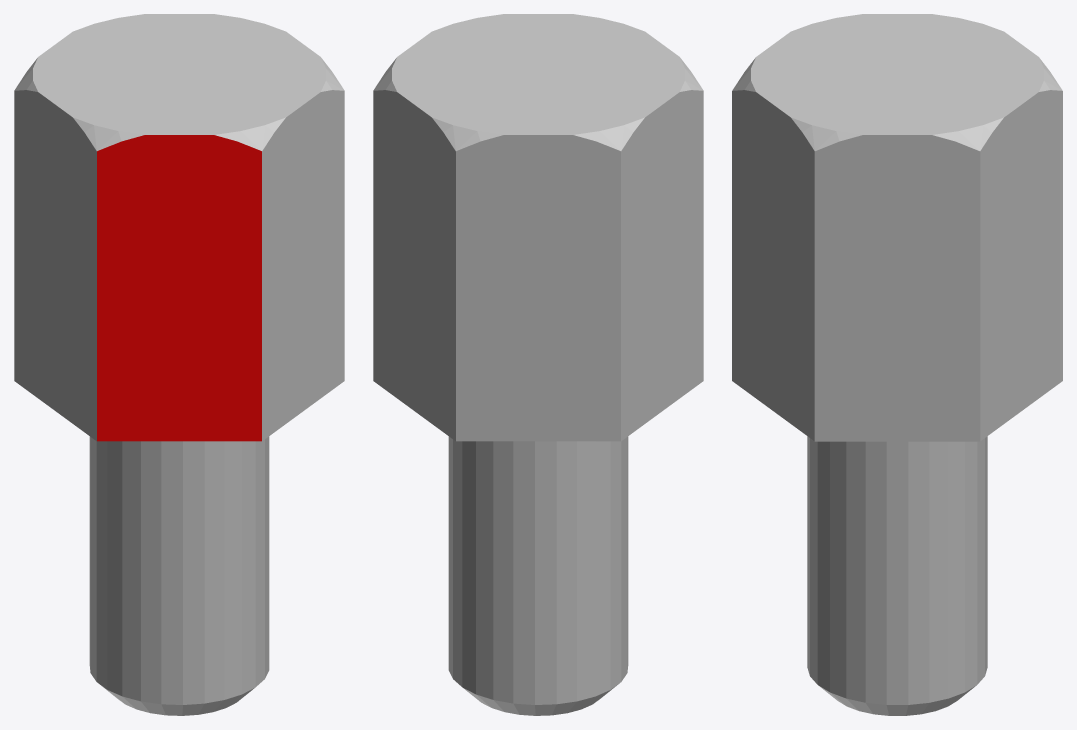
File: 8_stp_7.obj
The picture shows the model from 3 angles, left to right: view 1: azimuth 30°, elevation 25°; view 2: azimuth 150°, elevation 25°; view 3: azimuth 270°, elevation 25°; orthographic projection.
Visible parts, largest first — view 1: Object1; view 2: Object1; view 3: Object1.
Part boxes in pixels (bbox=[...]): Object1: bbox=[14, 14, 344, 715]; Object1: bbox=[373, 14, 703, 715]; Object1: bbox=[732, 14, 1062, 715].
Bounding box in the file's own units: 12.7 × 30 × 14.66.
